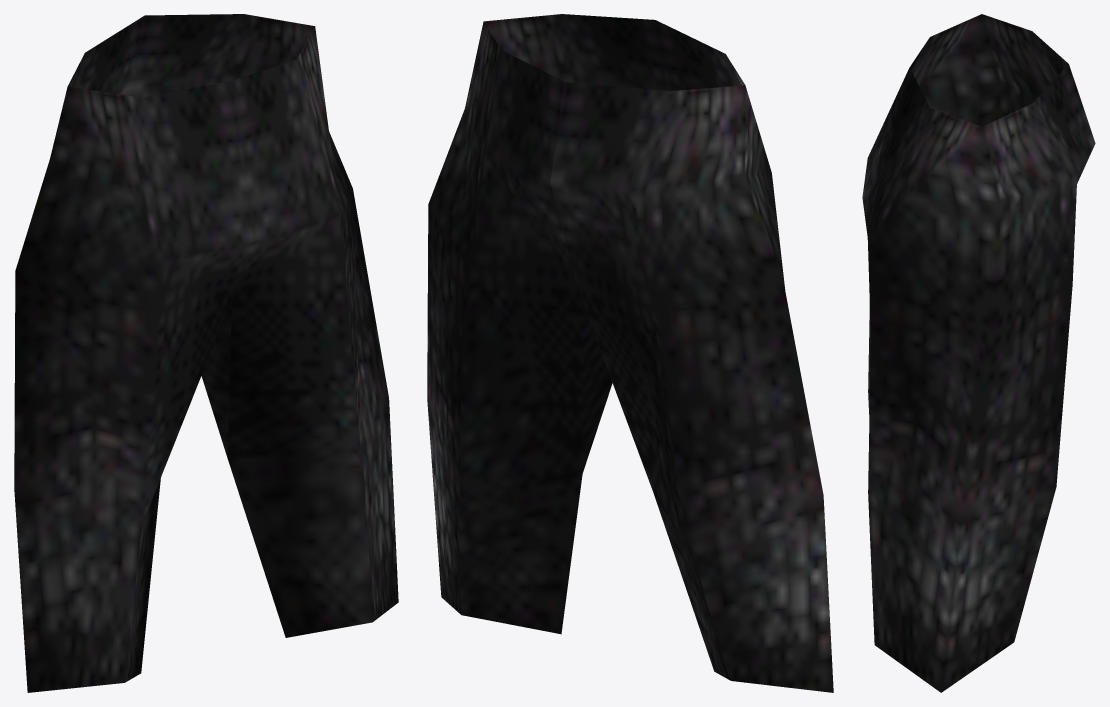
The model's file is 0_kn_pants_16.obj.
The picture shows the model from 3 angles, left to right: view 1: azimuth 30°, elevation 25°; view 2: azimuth 150°, elevation 25°; view 3: azimuth 270°, elevation 25°; orthographic projection. The views are drawn at different scales.
Parts seen in each view (by area): view 1: defaultobject; view 2: defaultobject; view 3: defaultobject.
Part boxes in pixels (bbox=[...]): defaultobject: bbox=[14, 14, 398, 692]; defaultobject: bbox=[427, 14, 833, 692]; defaultobject: bbox=[862, 14, 1095, 692].
Bounding box in the file's own units: 12.52 × 18.83 × 7.21.
Materials: 1 (1 with a texture image).
